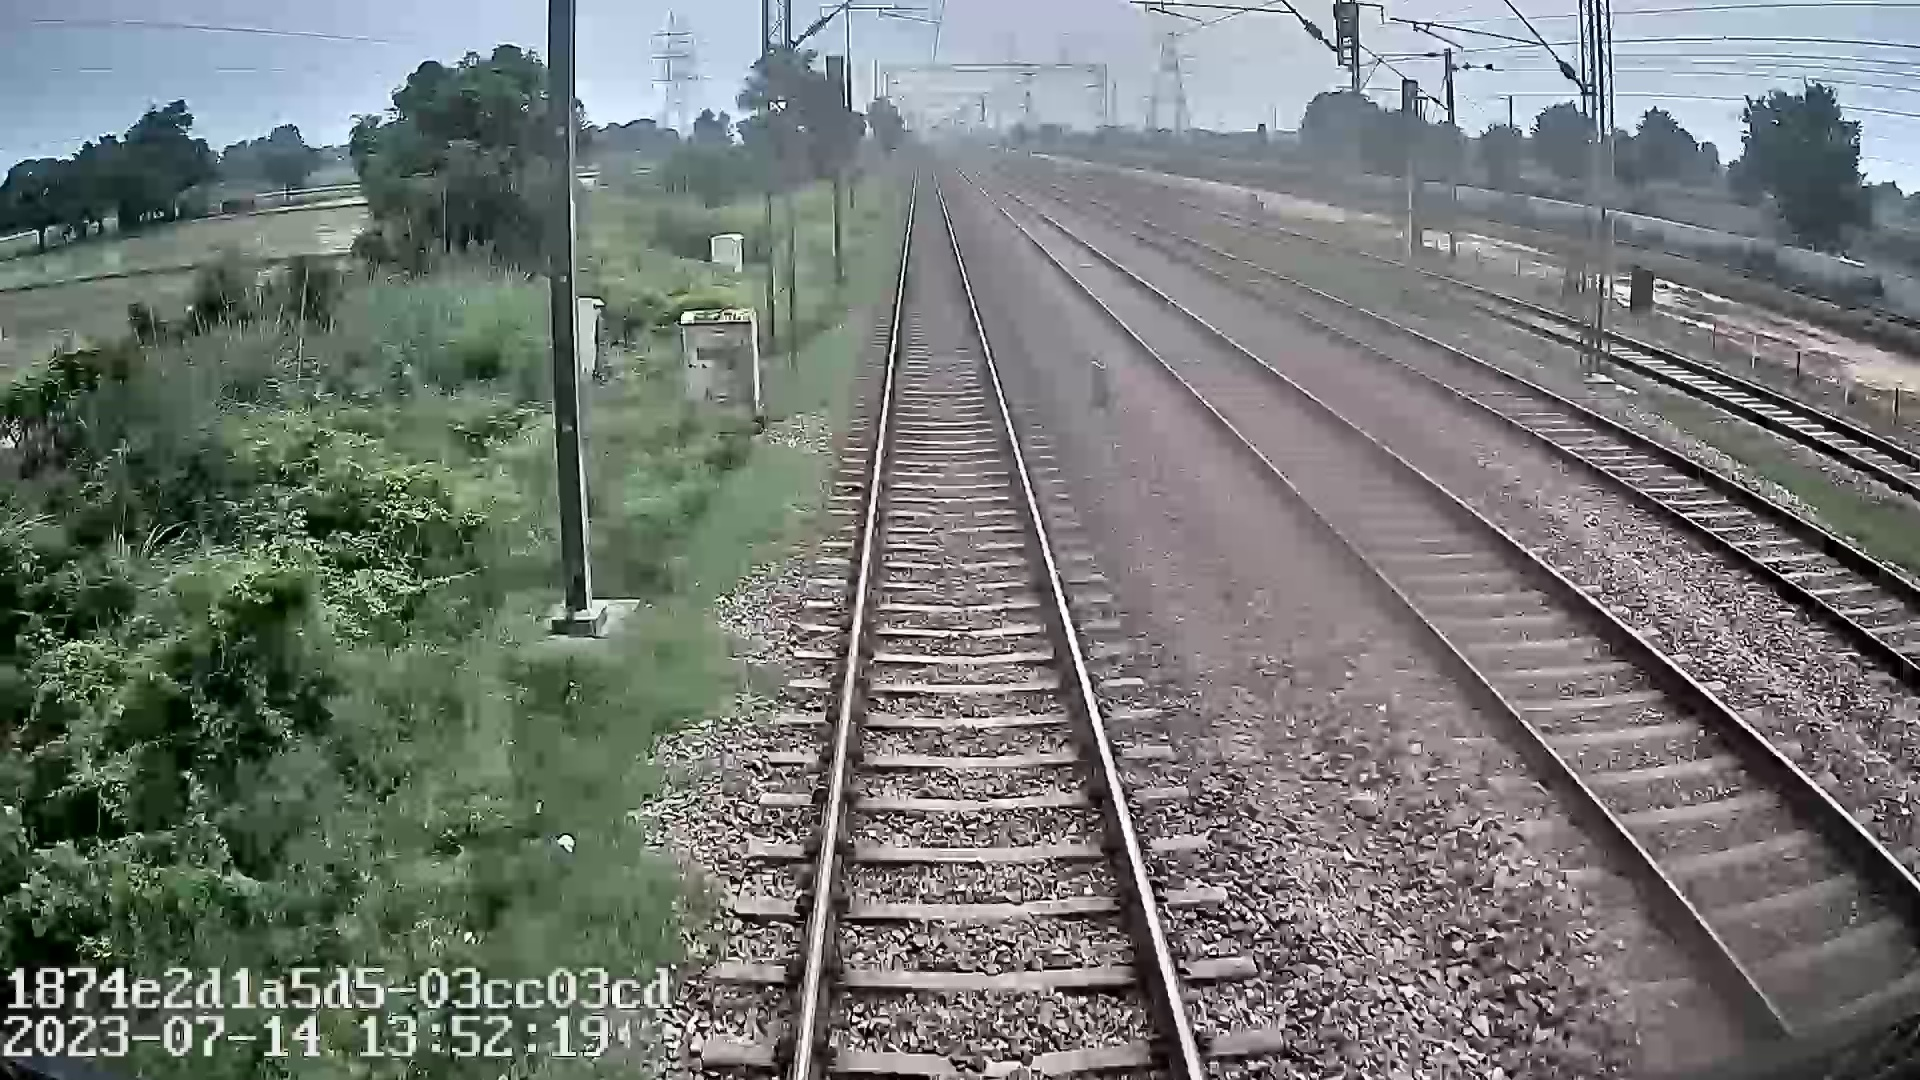track1: (803, 186, 1193, 1069)
track2: (996, 204, 1919, 993)
track3: (1221, 272, 1919, 646)
track4: (1478, 293, 1915, 479)
